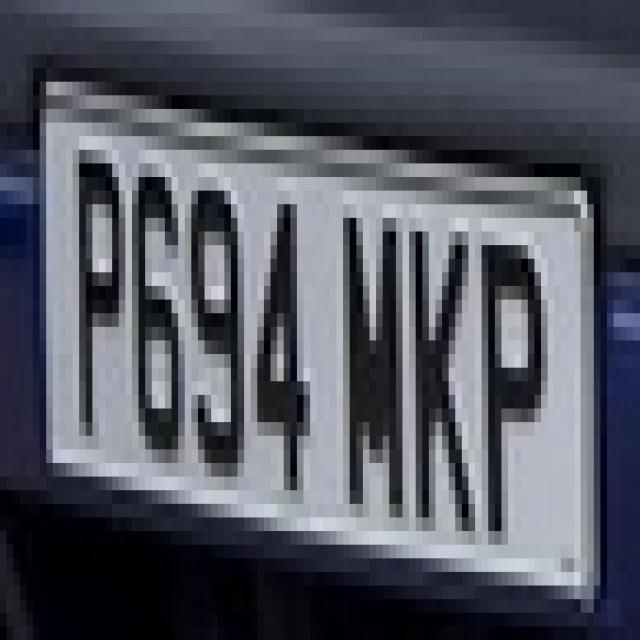licenseplate: (28, 60, 610, 606)
